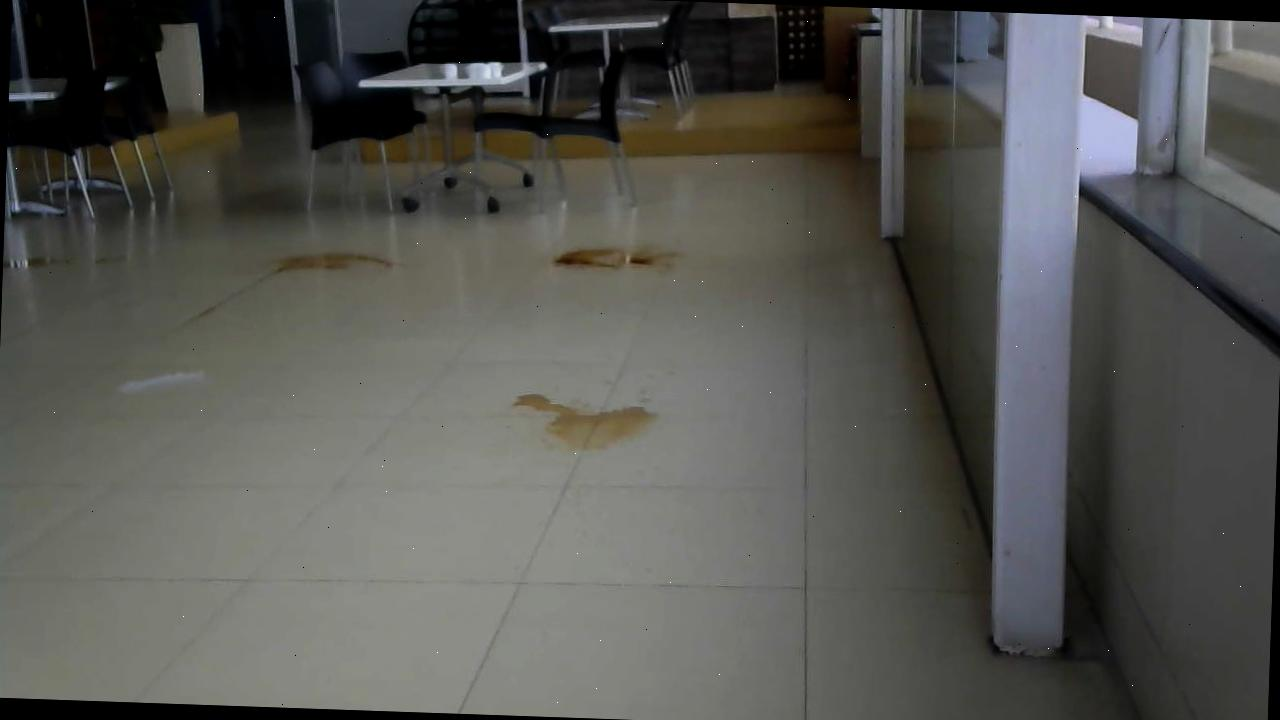dirty_floor: (505, 382, 660, 460), (549, 236, 684, 280), (270, 245, 398, 285), (113, 362, 210, 404), (4, 246, 82, 284)
